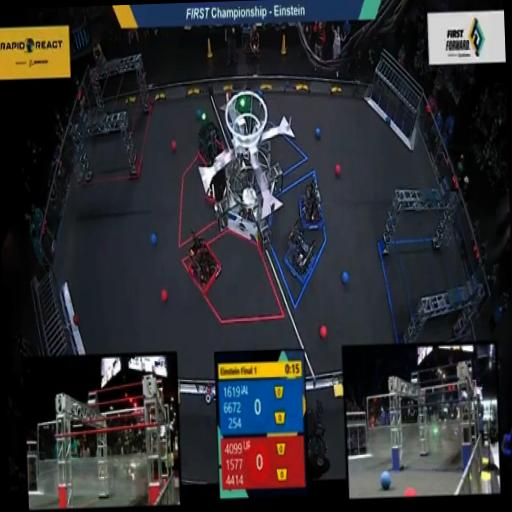robot: (182, 224, 223, 298), (280, 220, 316, 288), (291, 175, 326, 229), (200, 150, 232, 208), (194, 118, 224, 167)
